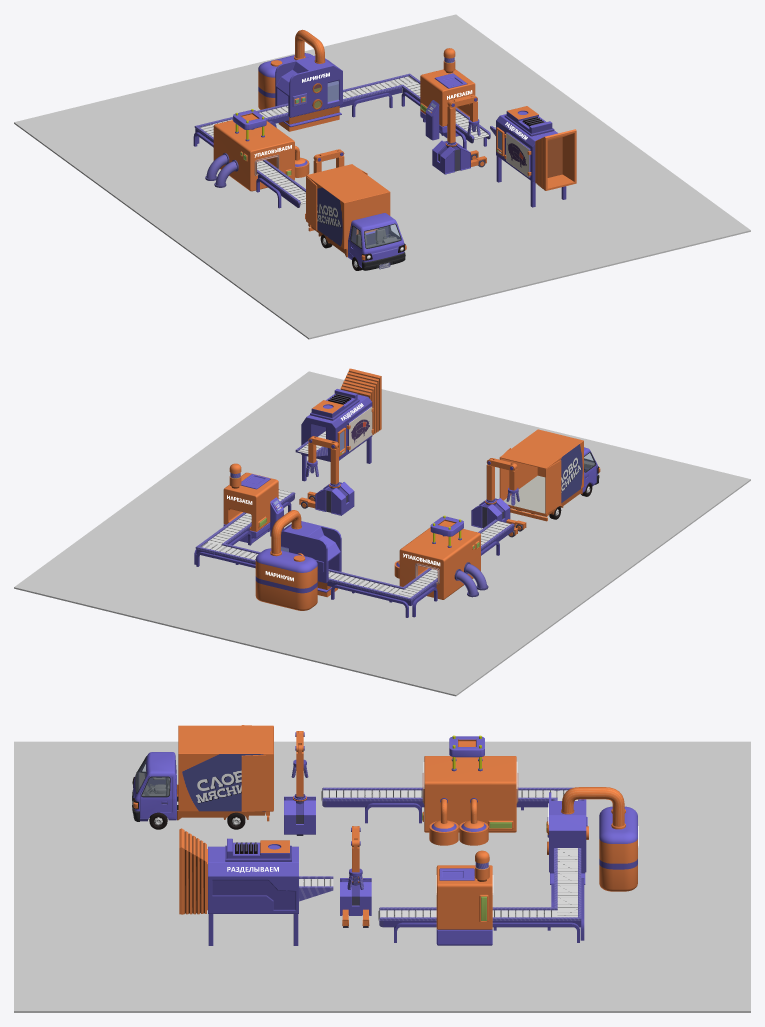
Rendered from Butcher's_Word_ Factory.glb.
3 renders of one model, top to bottom at view 1: azimuth 30°, elevation 25°; view 2: azimuth 150°, elevation 25°; view 3: azimuth 270°, elevation 25°, orthographic. The views are drawn at different scales.
Parts seen in each view (by area): view 1: Plane001_Material #0_0, Truck.002, Box005_Material #0_0, Cube.001, Cube, Cube.002, Cube.033, Box029_Material #0_0, Cube.003, Box014_Material #0_0.002, Box014_Material #0_0.001, Cube.018 (+5 smaller); view 2: Plane001_Material #0_0, Truck.002, Box005_Material #0_0, Cube, Cube.018, Cube.001, Box029_Material #0_0, Box014_Material #0_0.002, Cube.003, Cube.010, Cube.002, Box014_Material #0_0.001 (+4 smaller); view 3: Plane001_Material #0_0, Cube, Truck.002, Box005_Material #0_0, Box029_Material #0_0, Cube.018, Cube.033, Box014_Material #0_0.001, Cube.002, Cube.001, Box014_Material #0_0.003, Cube.031 (+9 smaller).
Boxes of the visible parts, <box> form: Plane001_Material #0_0: <box>14,14,750,339</box>; Truck.002: <box>306,164,390,249</box>; Box005_Material #0_0: <box>213,109,294,191</box>; Cube.001: <box>275,55,342,124</box>; Cube: <box>496,106,566,207</box>; Cube.002: <box>535,129,576,190</box>; Cube.033: <box>348,213,404,267</box>; Box029_Material #0_0: <box>420,69,475,137</box>; Cube.003: <box>432,101,486,174</box>; Box014_Material #0_0.002: <box>214,78,401,123</box>; Box014_Material #0_0.001: <box>205,133,305,206</box>; Cube.018: <box>258,53,312,109</box>; Plane001_Material #0_0: <box>14,371,750,696</box>; Truck.002: <box>499,429,583,514</box>; Box005_Material #0_0: <box>399,515,480,599</box>; Cube: <box>301,389,373,481</box>; Cube.018: <box>255,548,317,610</box>; Cube.001: <box>281,521,341,589</box>; Box029_Material #0_0: <box>223,472,278,543</box>; Box014_Material #0_0.002: <box>214,543,402,601</box>; Cube.003: <box>299,442,354,515</box>; Cube.010: <box>471,458,526,537</box>; Cube.002: <box>340,368,381,435</box>; Box014_Material #0_0.001: <box>403,520,512,594</box>; Plane001_Material #0_0: <box>14,741,750,1012</box>; Cube: <box>208,838,298,945</box>; Truck.002: <box>178,725,273,811</box>; Box005_Material #0_0: <box>422,735,518,832</box>; Box029_Material #0_0: <box>436,865,492,945</box>; Cube.018: <box>599,806,637,891</box>; Cube.033: <box>133,752,176,821</box>; Box014_Material #0_0.001: <box>326,787,554,807</box>; Cube.002: <box>179,828,207,914</box>; Cube.001: <box>547,792,588,873</box>; Box014_Material #0_0.003: <box>383,907,554,927</box>; Cube.031: <box>241,725,273,811</box>.
Size of the model in its own units: 22.39 by 3.86 by 25.88.
9 materials, 5 textured.
